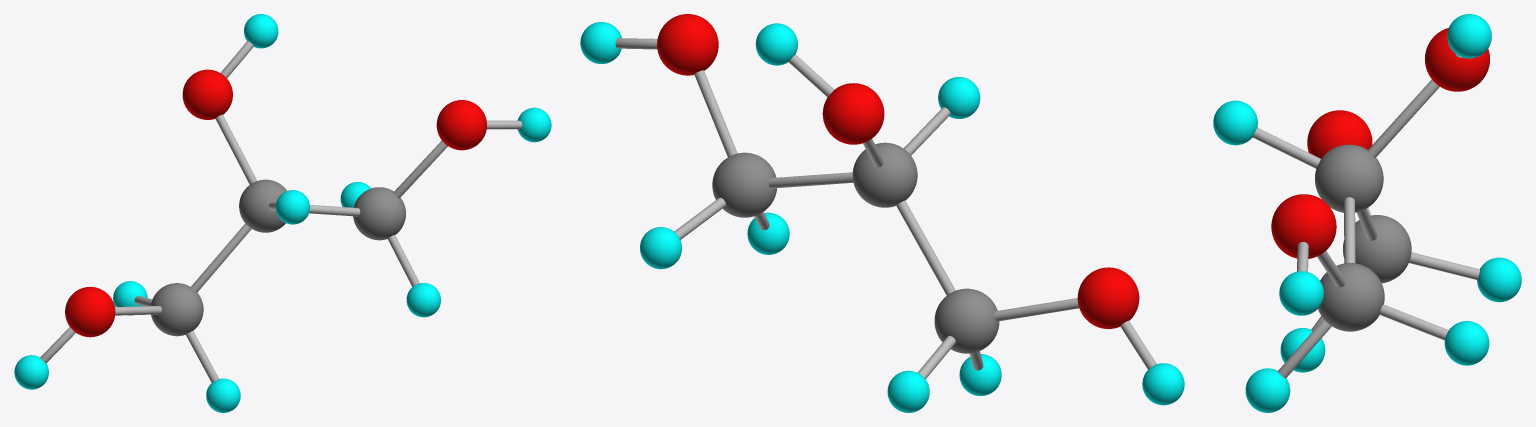
Rendered from 1,2,3-propane triol.glb.
3 views of the same model, side by side, from view 1: azimuth 30°, elevation 25°; view 2: azimuth 150°, elevation 25°; view 3: azimuth 270°, elevation 25° (orthographic). The views are drawn at different scales.
Visible parts, largest first — view 1: CMAtom_1, CMAtom_0, CMAtom_13, CMAtom_12, CMAtom_2, CMAtom_9, CMAtom_10, CMAtom_3, CMAtom_11, CMAtom_5, CMAtom_8, CMAtom_7 (+7 smaller); view 2: CMAtom_0, CMAtom_1, CMAtom_9, CMAtom_2, CMAtom_12, CMAtom_13, CMAtom_5, CMAtom_6, CMAtom_4, CMAtom_8, CMAtom_10, CMAtom_7 (+11 smaller); view 3: CMAtom_9, CMAtom_1, CMAtom_13, CMAtom_0, CMAtom_2, CMAtom_12, CMAtom_6, CMAtom_8, CMAtom_7, CMAtom_10, CMAtom_4, CMAtom_11 (+10 smaller).
Part boxes in pixels (left/top/right/bottom): CMAtom_1: left=353, top=187, right=405, bottom=240; CMAtom_0: left=150, top=283, right=203, bottom=336; CMAtom_13: left=436, top=100, right=486, bottom=150; CMAtom_12: left=65, top=287, right=115, bottom=337; CMAtom_2: left=182, top=69, right=232, bottom=119; CMAtom_9: left=239, top=179, right=286, bottom=232; CMAtom_10: left=275, top=190, right=309, bottom=224; CMAtom_3: left=206, top=378, right=240, bottom=412; CMAtom_11: left=406, top=283, right=440, bottom=317; CMAtom_5: left=14, top=355, right=48, bottom=389; CMAtom_8: left=244, top=14, right=278, bottom=48; CMAtom_7: left=517, top=107, right=551, bottom=142; CMAtom_0: left=934, top=288, right=999, bottom=353; CMAtom_1: left=712, top=152, right=776, bottom=217; CMAtom_9: left=852, top=142, right=917, bottom=207; CMAtom_2: left=822, top=83, right=884, bottom=144; CMAtom_12: left=1077, top=267, right=1139, bottom=328; CMAtom_13: left=657, top=14, right=718, bottom=75; CMAtom_5: left=1142, top=363, right=1184, bottom=405; CMAtom_6: left=640, top=227, right=681, bottom=269; CMAtom_4: left=887, top=370, right=929, bottom=412; CMAtom_8: left=755, top=23, right=797, bottom=65; CMAtom_10: left=938, top=77, right=980, bottom=118; CMAtom_7: left=580, top=22, right=621, bottom=63; CMAtom_9: left=1315, top=144, right=1383, bottom=212; CMAtom_1: left=1318, top=263, right=1384, bottom=331; CMAtom_13: left=1271, top=194, right=1336, bottom=258; CMAtom_0: left=1343, top=215, right=1411, bottom=283; CMAtom_2: left=1425, top=28, right=1489, bottom=91; CMAtom_12: left=1307, top=110, right=1372, bottom=158; CMAtom_6: left=1444, top=321, right=1489, bottom=365; CMAtom_8: left=1447, top=14, right=1491, bottom=58; CMAtom_7: left=1279, top=271, right=1323, bottom=315; CMAtom_10: left=1213, top=100, right=1257, bottom=145; CMAtom_4: left=1477, top=257, right=1521, bottom=302; CMAtom_11: left=1245, top=368, right=1290, bottom=412.
Bounding box in the file's own units: 6.84 × 4.14 × 2.76.
